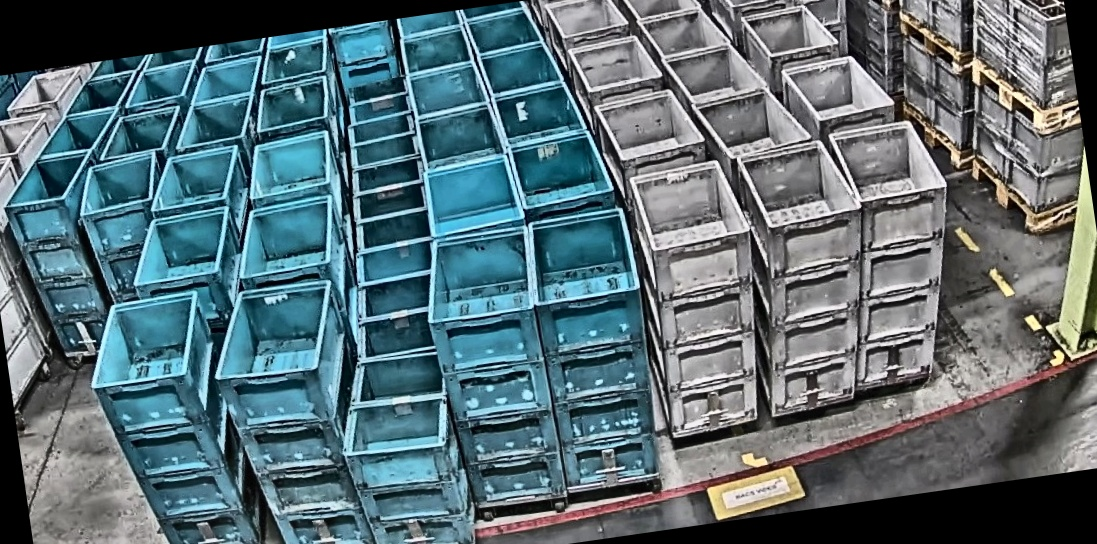4G: (725, 133, 889, 415), (625, 155, 779, 437), (817, 115, 975, 389)
B4: (78, 285, 269, 544), (203, 275, 382, 544), (413, 225, 570, 511), (519, 205, 669, 489), (70, 149, 181, 307)
B8: (328, 348, 482, 544)
